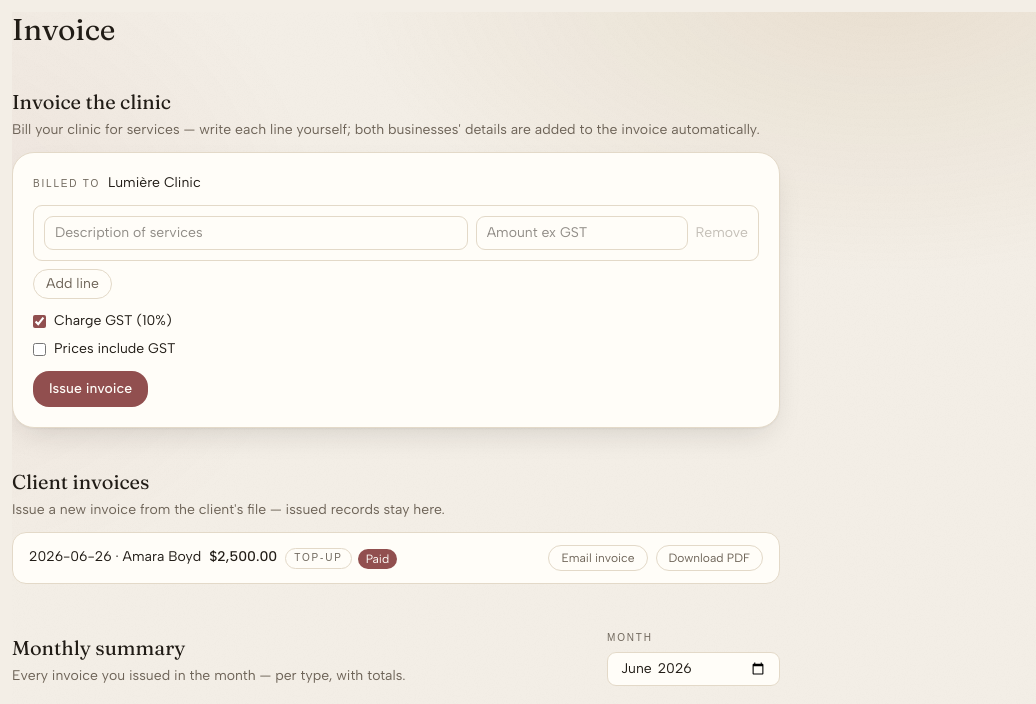
Invoice the clinic — composer › refuses to issue an incomplete line and points at it
In the field named "Line 1 amount": [582, 233] box [476, 216, 688, 250], type "100"
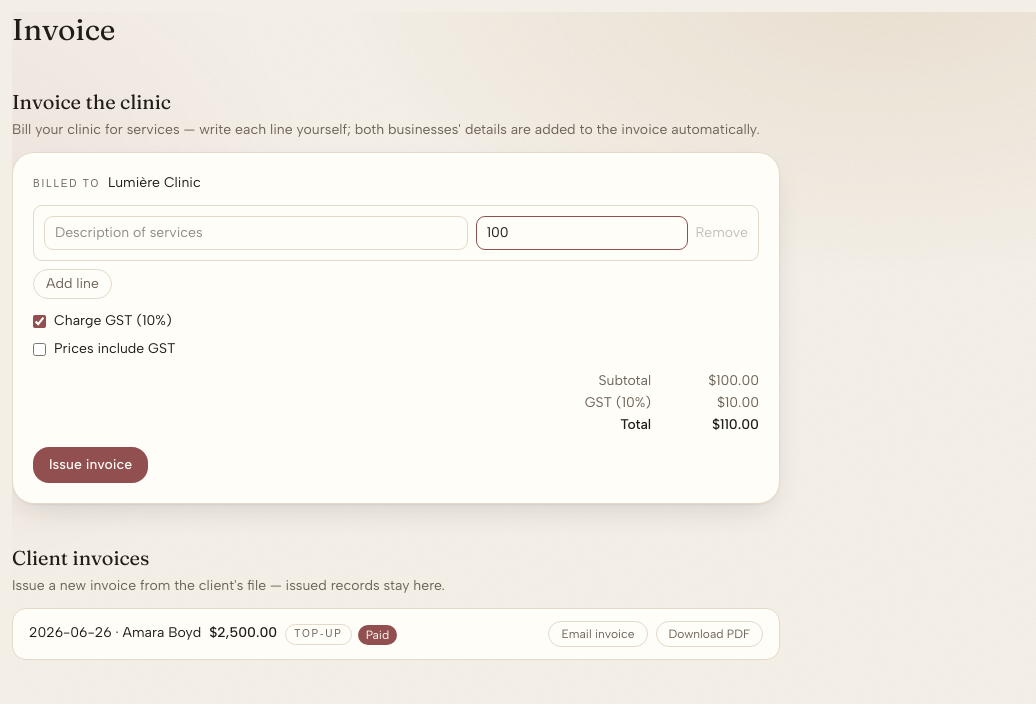
Click the button "Issue invoice": [91, 465] box [33, 447, 148, 483]
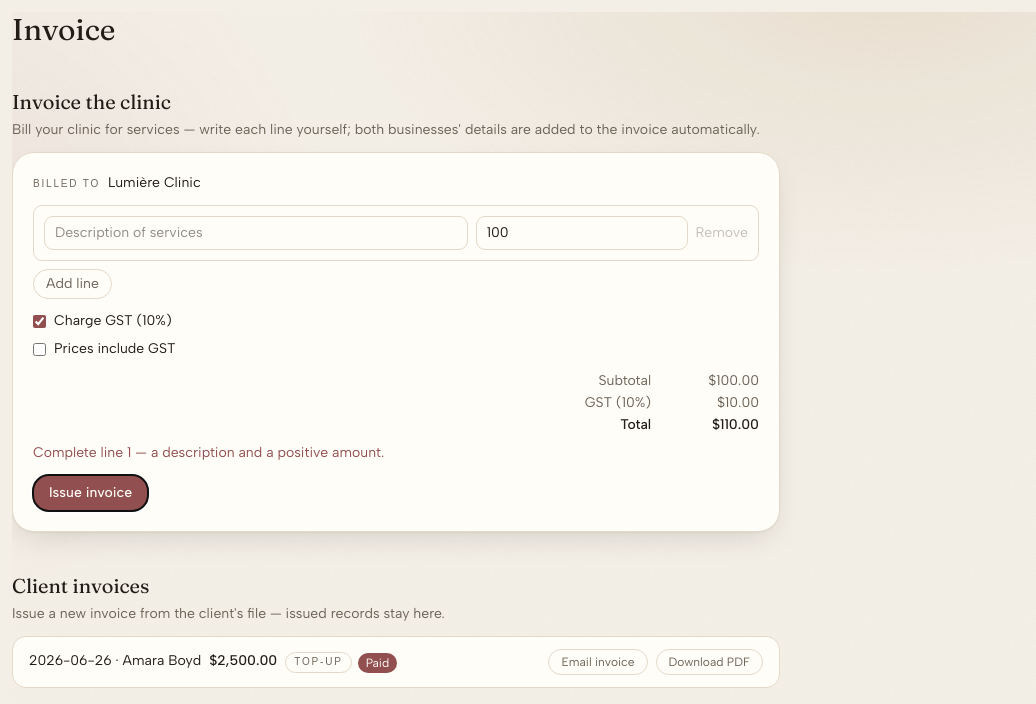
Expected: the text "Complete line 1 — a description and a positive amount." is shown, [33, 444, 384, 461]
